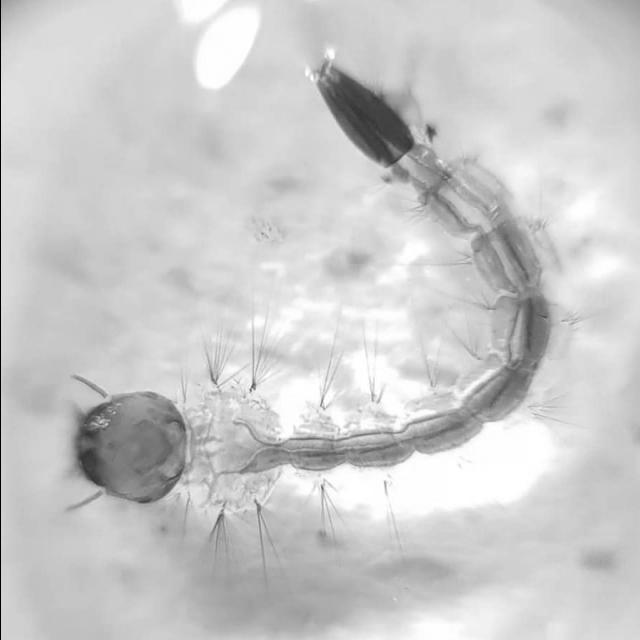larvas: (77, 70, 558, 505)
